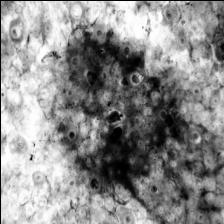Potentially Malignant Skin Tumors: (54, 23, 186, 196)
